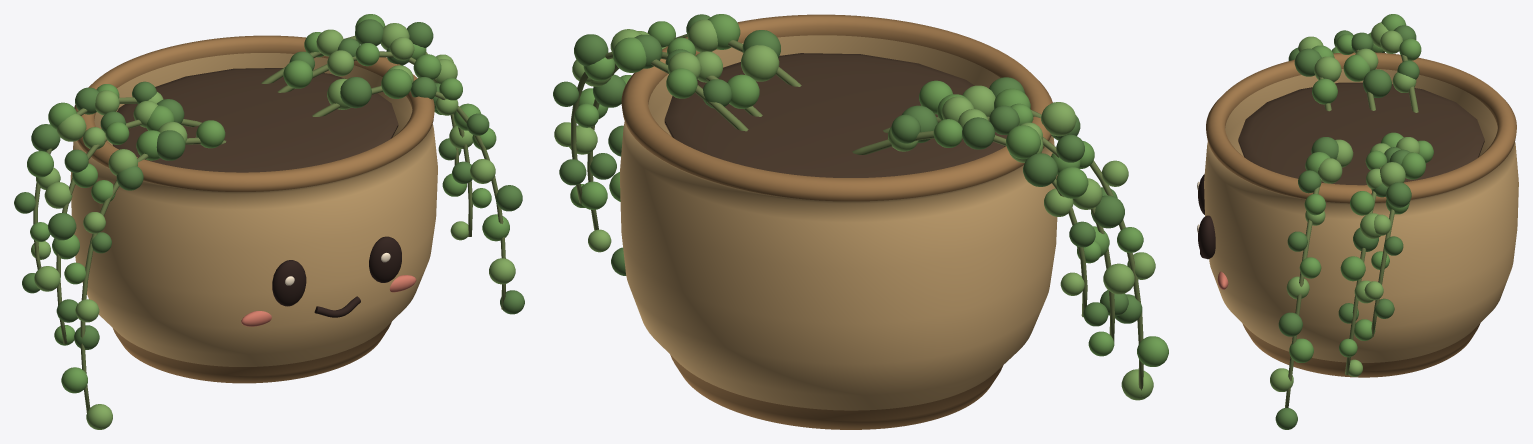
Rendered from string-of-pearls-v1.glb.
The picture shows the model from 3 angles, left to right: view 1: azimuth 30°, elevation 25°; view 2: azimuth 150°, elevation 25°; view 3: azimuth 270°, elevation 25°; orthographic projection. The views are drawn at different scales.
Visible parts, largest first — view 1: Wheel-thrown ceramic, Soil, Eye, Eye.001, Pearl vine 1, Pearl vine 2, Pearl 2.2, Pearl vine 4, Pearl vine 3, Pearl 2.3, Pearl 1.3, Pearl 4.1 (+25 smaller); view 2: Wheel-thrown ceramic, Soil, Pearl vine 6, Pearl 2.1, Pearl vine 5, Pearl 6.5, Pearl 1.5, Pearl 5.6, Pearl 5.8, Pearl vine 1, Pearl 4.1, Pearl 5.5 (+27 smaller); view 3: Wheel-thrown ceramic, Soil, Pearl 3.1, Eye.001, Pearl vine 2, Pearl 1.3, Pearl 1.2, Pearl 3.2, Pearl 1.1, Pearl 6.7, Pearl 6.5, Pearl 4.10 (+29 smaller).
Boxes of the visible parts, <box> form: Wheel-thrown ceramic: <box>70,35,437,383</box>; Soil: <box>112,68,398,172</box>; Eye: <box>272,260,306,306</box>; Eye.001: <box>369,236,401,282</box>; Pearl vine 1: <box>80,137,226,412</box>; Pearl vine 2: <box>312,86,505,309</box>; Pearl 2.2: <box>340,77,371,108</box>; Pearl vine 4: <box>277,51,472,236</box>; Pearl vine 3: <box>56,119,201,344</box>; Pearl 2.3: <box>381,69,412,98</box>; Pearl 1.3: <box>156,130,185,160</box>; Pearl 4.1: <box>283,60,312,88</box>; Wheel-thrown ceramic: <box>620,14,1057,429</box>; Soil: <box>664,53,1007,177</box>; Pearl vine 6: <box>571,52,748,203</box>; Pearl 2.1: <box>741,45,779,81</box>; Pearl vine 5: <box>852,130,1087,317</box>; Pearl 6.5: <box>613,37,646,72</box>; Pearl 1.5: <box>1041,102,1076,136</box>; Pearl 5.6: <box>1006,125,1040,159</box>; Pearl 5.8: <box>1023,153,1057,186</box>; Pearl vine 1: <box>1031,109,1143,395</box>; Pearl 4.1: <box>727,74,759,108</box>; Pearl 5.5: <box>962,117,994,149</box>; Wheel-thrown ceramic: <box>1204,52,1518,377</box>; Soil: <box>1238,82,1484,185</box>; Pearl 3.1: <box>1363,69,1391,97</box>; Eye.001: <box>1198,215,1215,259</box>; Pearl vine 2: <box>1285,178,1321,407</box>; Pearl 1.3: <box>1294,48,1321,76</box>; Pearl 1.2: <box>1314,56,1341,81</box>; Pearl 3.2: <box>1343,54,1370,81</box>; Pearl 1.1: <box>1312,78,1337,104</box>; Pearl 6.7: <box>1386,182,1411,207</box>; Pearl 6.5: <box>1401,152,1425,179</box>; Pearl 4.10: <box>1340,256,1365,281</box>.
Size of the model in its own units: 2.31 by 1.3 by 1.53.
